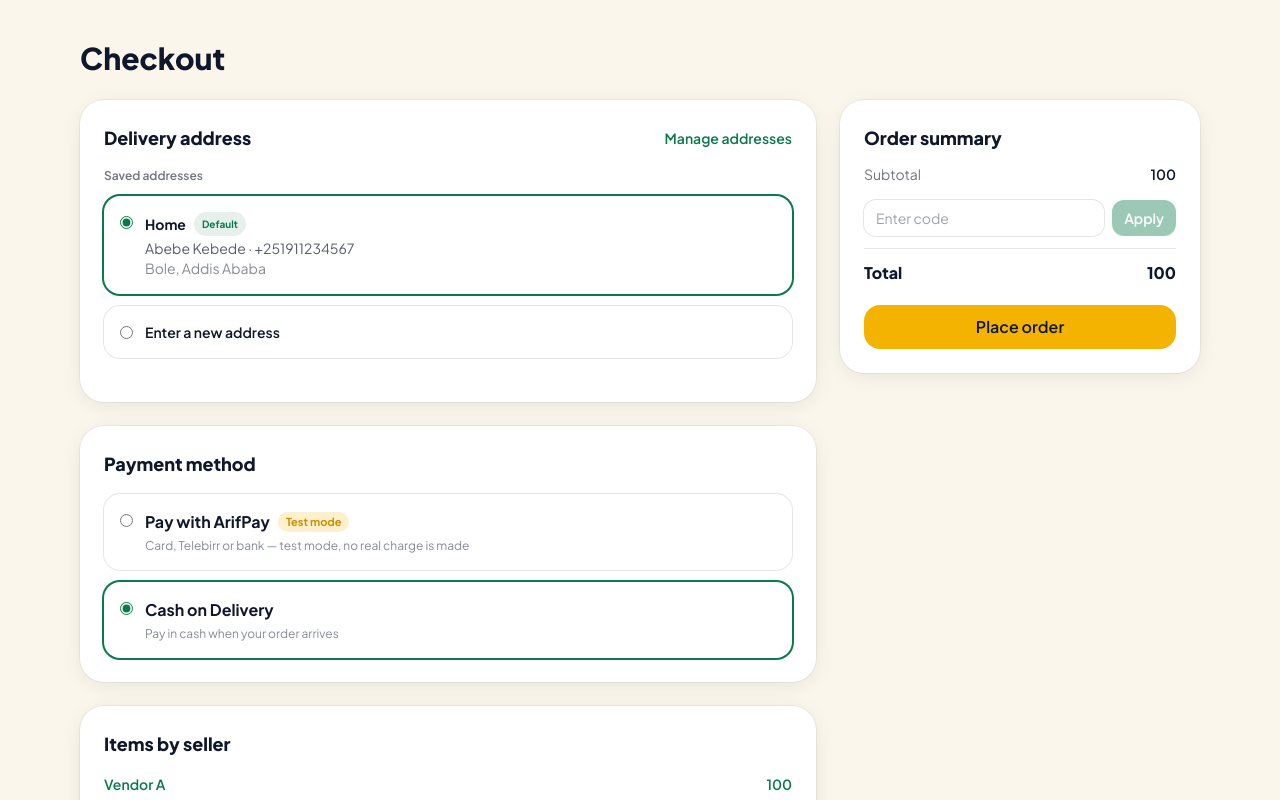
Test: Checkout › switches to manual entry when "Enter a new address" is chosen
Expected: the text "Bole, Addis Ababa" is shown, [145, 259, 266, 277]
Click the radio button labelled "Enter a new address": (126, 332) [120, 326, 133, 338]
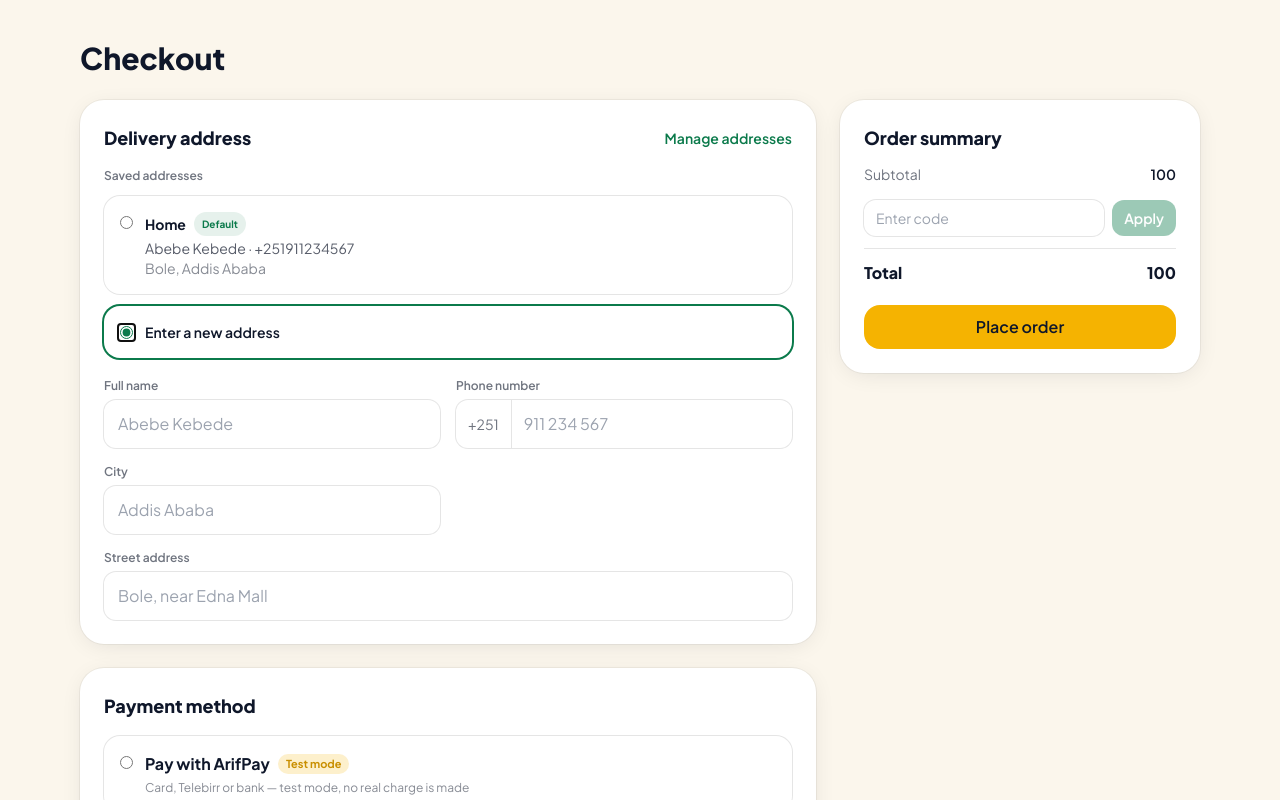
Result: the field labelled "Full name" is shown at [104, 400, 440, 448]
